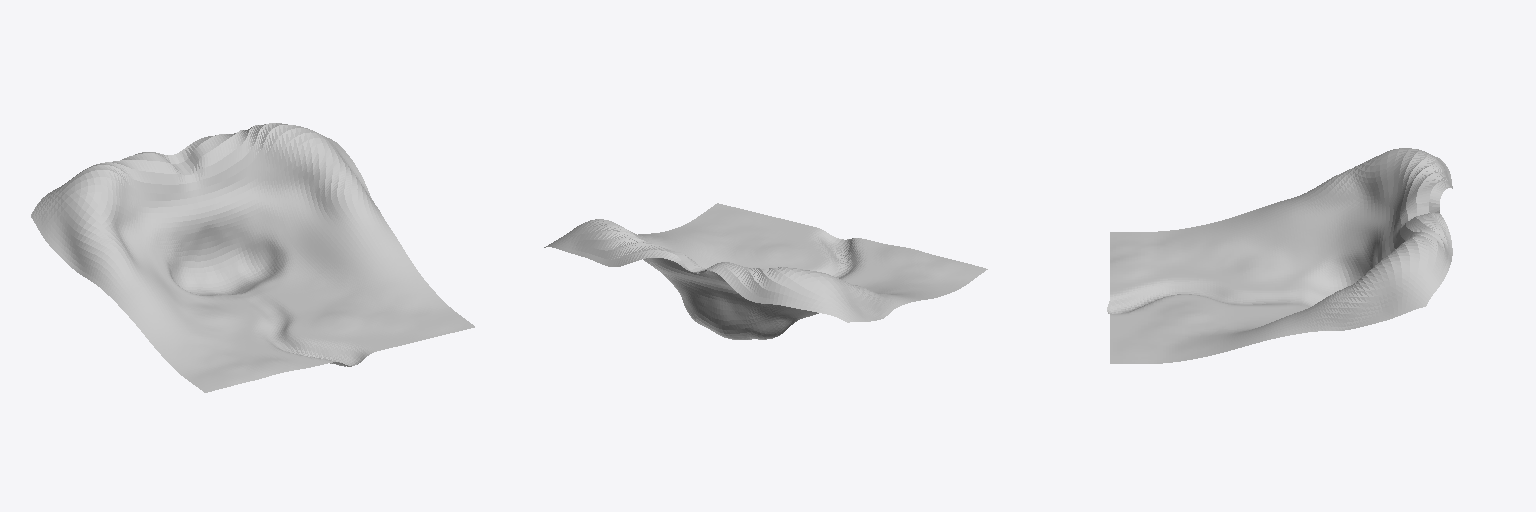
The model's file is waterfall.obj.
3 renders of one model, left to right at view 1: azimuth 30°, elevation 25°; view 2: azimuth 150°, elevation 25°; view 3: azimuth 270°, elevation 25°, orthographic.
Parts seen in each view (by area): view 1: Plane; view 2: Plane; view 3: Plane.
Boxes of the visible parts, x1,y1,x2,y2 form: Plane: [31, 123, 474, 392]; Plane: [544, 203, 987, 339]; Plane: [1107, 148, 1452, 363].
Bounding box in the file's own units: 22.87 × 8.23 × 22.08.